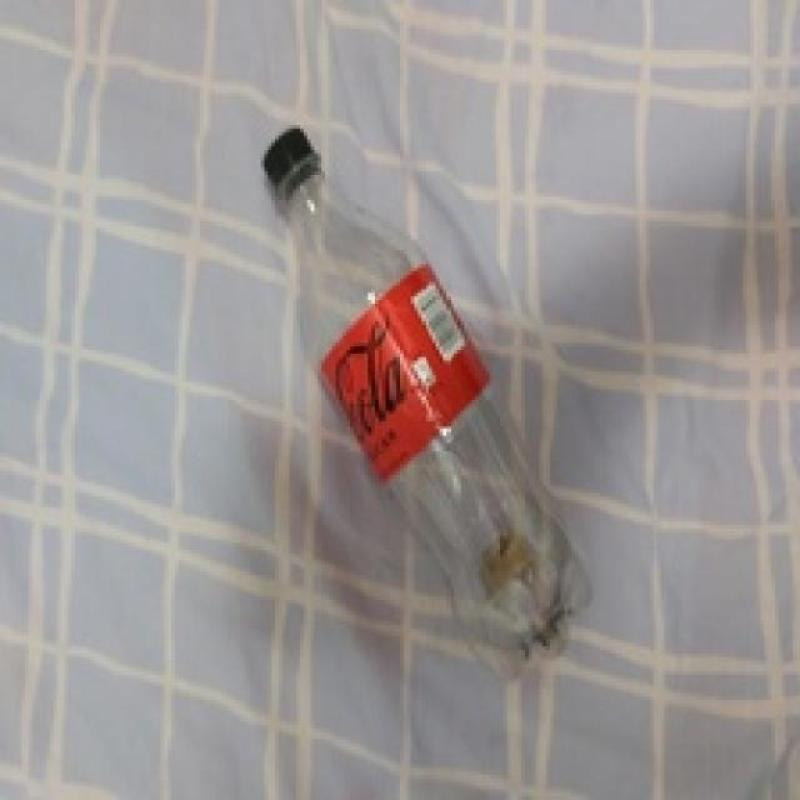botella: (261, 125, 594, 681)
